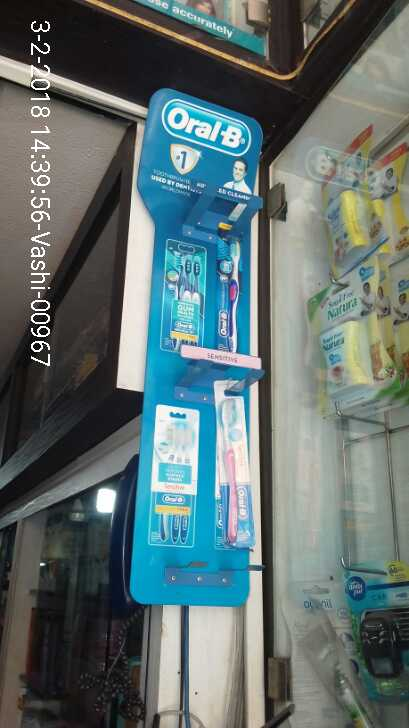oralb: (213, 397, 259, 547), (220, 241, 241, 354)
